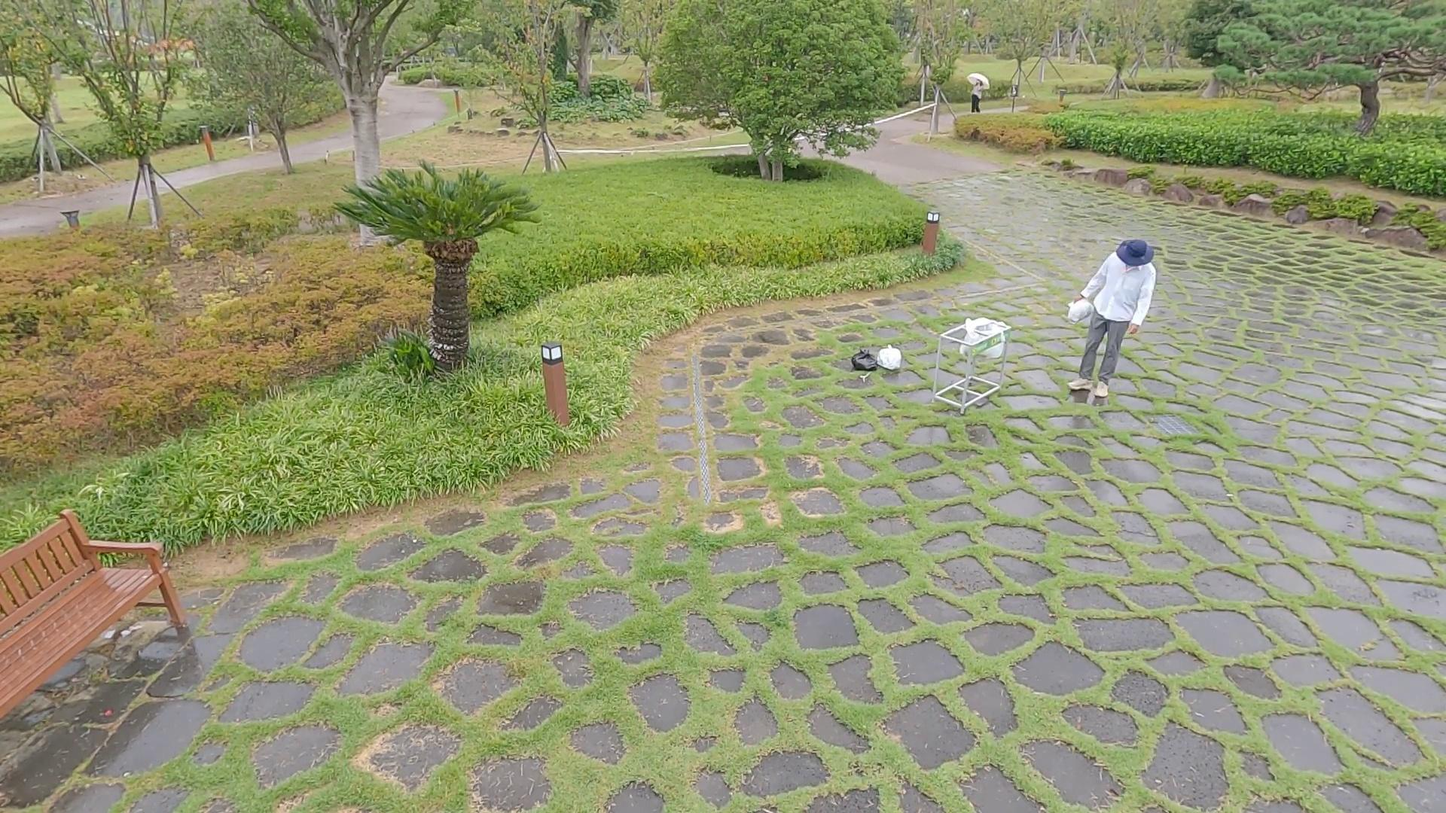person: (1067, 238, 1158, 403)
trash: (874, 344, 904, 372), (1065, 297, 1093, 325), (851, 346, 879, 373)
